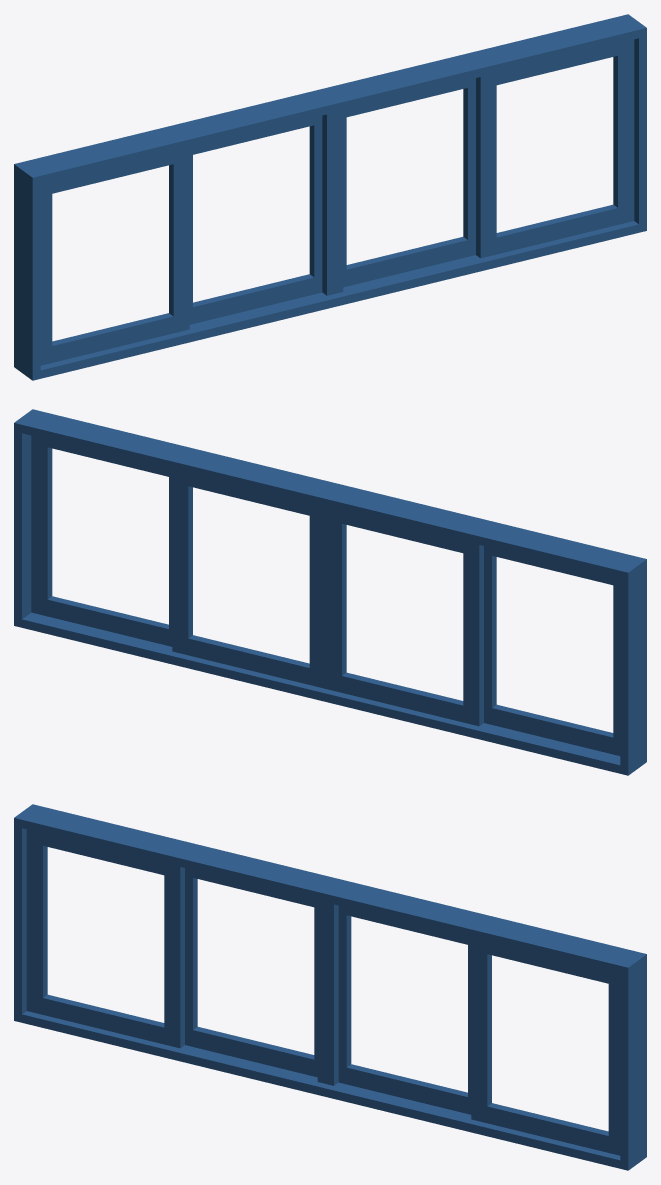
Rendered from window.obj.
3 views of the same model, one above another, from view 1: azimuth 30°, elevation 25°; view 2: azimuth 150°, elevation 25°; view 3: azimuth 330°, elevation 25° (orthographic).
Bounding box in the file's own units: 76 × 24 × 4.
1 material, 1 textured.
